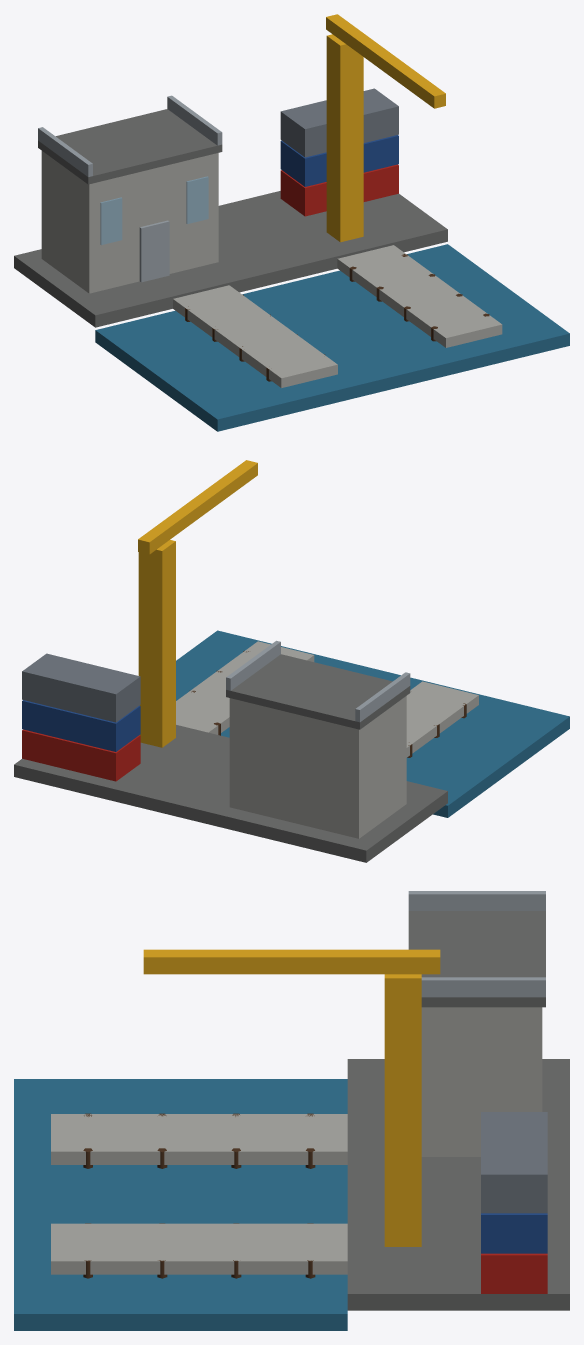
Rendered from bld_special_port_a06_lod1.glb.
The picture shows the model from 3 angles, top to bottom: view 1: azimuth 30°, elevation 25°; view 2: azimuth 150°, elevation 25°; view 3: azimuth 270°, elevation 25°; orthographic projection. The views are drawn at different scales.
Visible parts, largest first — view 1: body, crane; view 2: body, crane; view 3: body, crane.
Boxes of the visible parts, x1=… form: body: x1=14, y1=88, x2=569, y2=431; crane: x1=326, y1=14, x2=445, y2=242; body: x1=14, y1=630, x2=569, y2=862; crane: x1=138, y1=460, x2=257, y2=747; body: x1=14, y1=891, x2=569, y2=1330; crane: x1=143, y1=949, x2=440, y2=1246.
Size of the model in its own units: 15 by 9.9 by 15.
